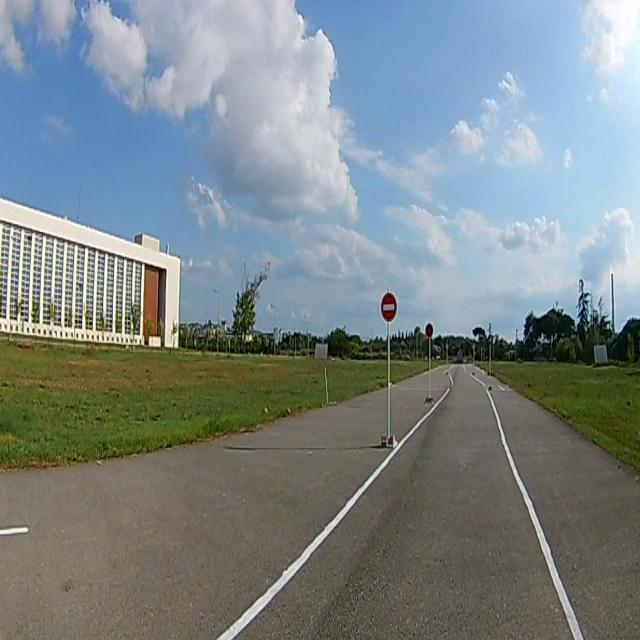girisyok: (380, 292, 397, 324)
